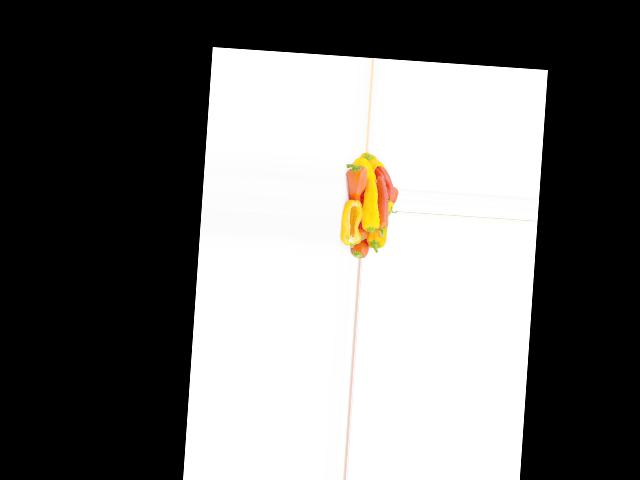bell_pepper: (350, 228, 373, 259)
